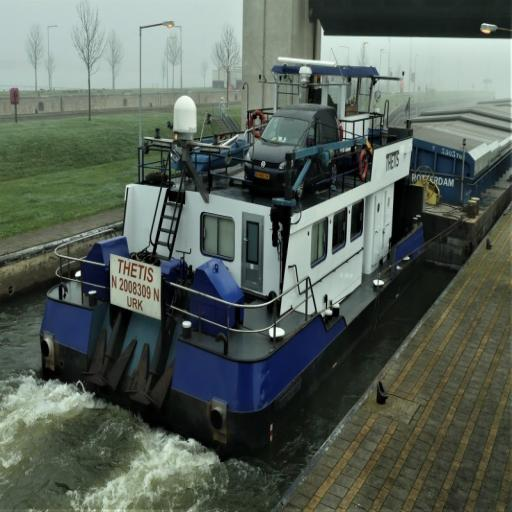tugboat: (35, 53, 430, 472)
